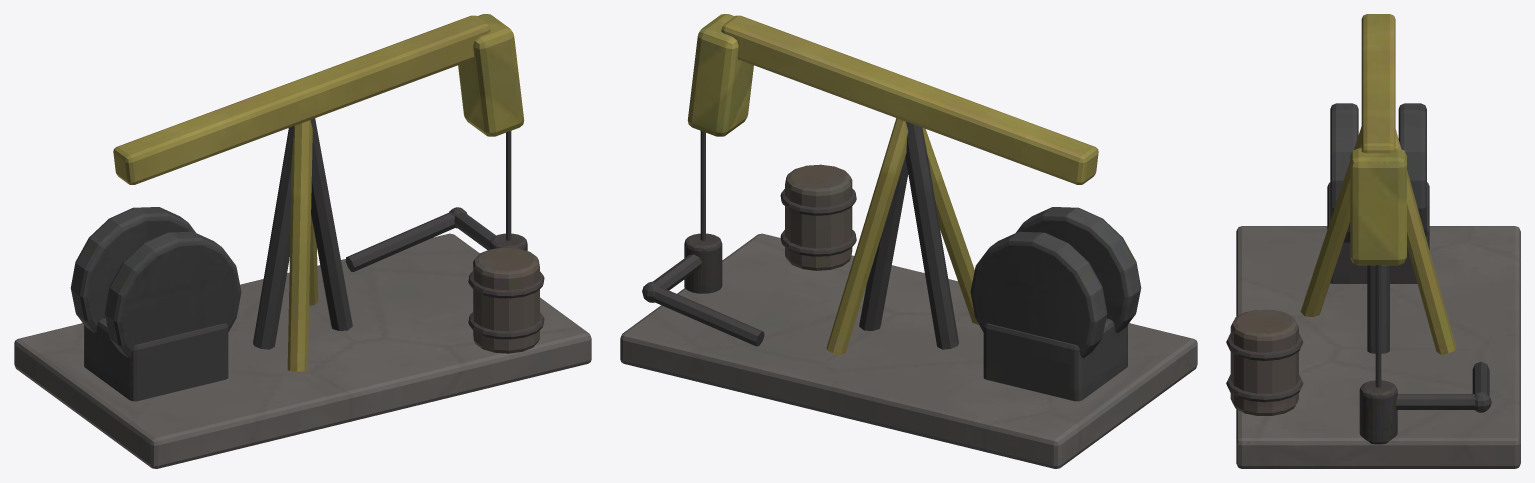
The model's file is home-oilpump.glb.
3 views of the same model, side by side, from view 1: azimuth 30°, elevation 25°; view 2: azimuth 150°, elevation 25°; view 3: azimuth 270°, elevation 25° (orthographic).
Visible parts, largest first — view 1: wh_oilpump; view 2: wh_oilpump; view 3: wh_oilpump.
Part boxes in pixels (box(x1,y1,x2,y2)): wh_oilpump: box(14, 14, 591, 468); wh_oilpump: box(620, 14, 1197, 468); wh_oilpump: box(1226, 14, 1520, 468).
Bounding box in the file's own units: 0.9033 × 0.5935 × 0.518.
1 material, 1 textured.
